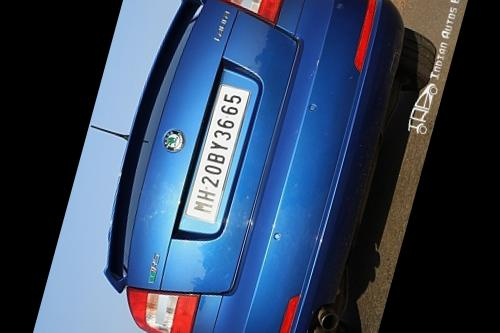plate: (164, 52, 274, 245)
